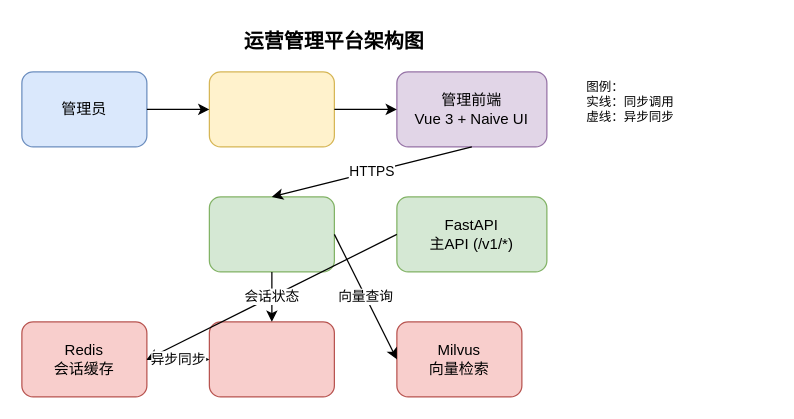
The diagram is 794 pixels wide and 419 high, and some of its shapes have lost their labels. The centre of each missing label's shape, as x and y in pixels:
FastAPI 管理API: pixel 271 234
Nginx 反向代理: pixel 271 109
PostgreSQL 对话历史: pixel 271 359
